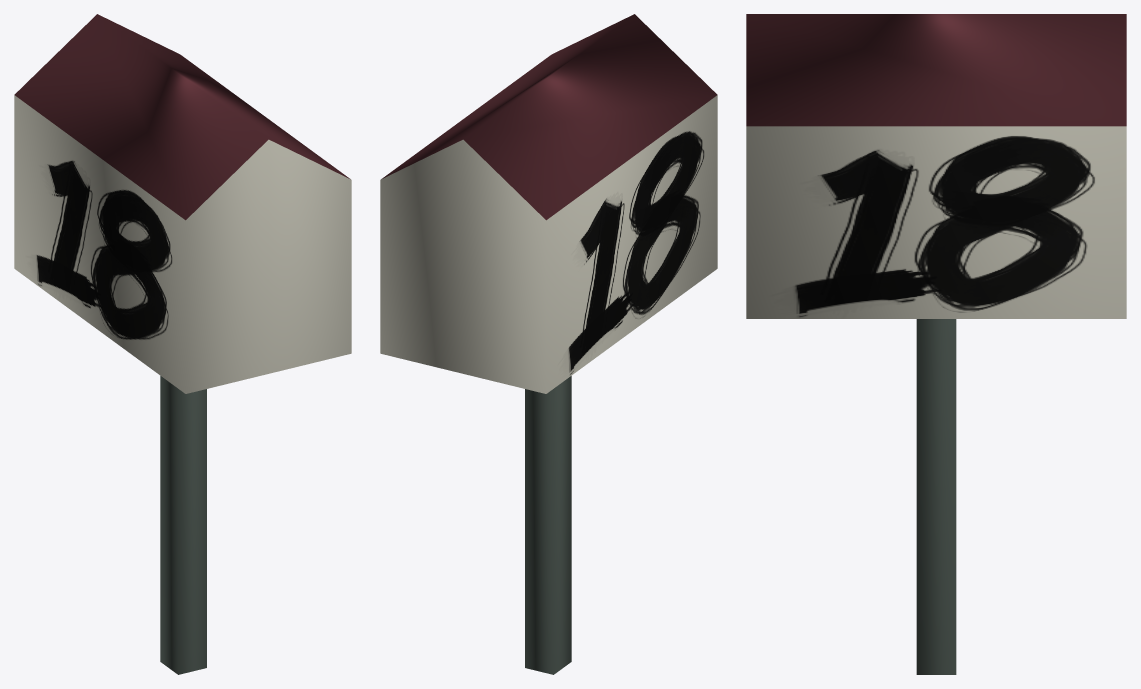
Rendered from letterbox.fbx.
3 renders of one model, left to right at view 1: azimuth 30°, elevation 25°; view 2: azimuth 150°, elevation 25°; view 3: azimuth 270°, elevation 25°, orthographic. The views are drawn at different scales.
Visible parts, largest first — view 1: Cube; view 2: Cube; view 3: Cube.
Part boxes in pixels (x1,y1,x2,y2): Cube: (14,14,351,674); Cube: (380,14,717,674); Cube: (746,14,1126,674).
Bounding box in the file's own units: 9.91 × 33.55 × 17.72.
